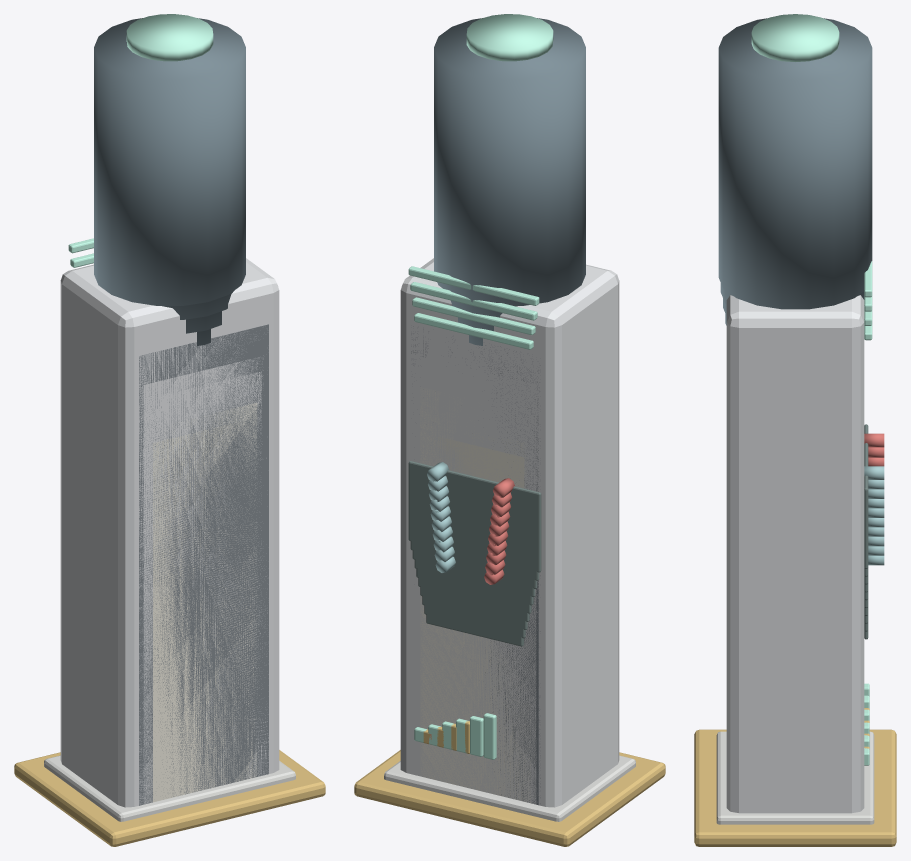
File: Gear13.fbx
3 renders of one model, left to right at view 1: azimuth 30°, elevation 25°; view 2: azimuth 150°, elevation 25°; view 3: azimuth 270°, elevation 25°, orthographic.
Parts seen in each view (by area): view 1: Gear13_V10_Platinum, Gear13_V8_Graphite, Gear13_V10_Glass, Gear13_V2_Ivory, Gear13_V6_Platinum, Gear13_V5_Platinum, Gear13_V9_Platinum, Gear13_V10_Gold, Gear13_V9_Gold, Gear13_V10_Glow, Gear13_V10_Chrome, Gear13_V1_Ivory (+4 smaller); view 2: Gear13_V10_Platinum, Gear13_V10_Glass, Gear13_V6_Platinum, Gear13_V4_Linen, Gear13_V10_Gold, Gear13_V10_Glow, Gear13_V3_Linen, Gear13_V7_Graphite, Gear13_V1_Ink, Gear13_V5_Platinum, Gear13_V9_Gold, Gear13_V5_Ink (+13 smaller); view 3: Gear13_V10_Platinum, Gear13_V10_Glass, Gear13_V10_Gold, Gear13_V10_Glow, Gear13_V9_Gold, Gear13_V10_Chrome, Gear13_V4_Chrome, Gear13_V5_Chrome, Gear13_V10_Ink, Gear13_V9_Chrome, Gear13_V6_Chrome.
Boxes of the visible parts, bbox=[...] form: Gear13_V10_Platinum: bbox=[60, 258, 279, 807]; Gear13_V8_Graphite: bbox=[139, 324, 268, 805]; Gear13_V10_Glass: bbox=[94, 18, 245, 305]; Gear13_V2_Ivory: bbox=[153, 419, 254, 802]; Gear13_V6_Platinum: bbox=[143, 357, 263, 803]; Gear13_V5_Platinum: bbox=[146, 371, 261, 803]; Gear13_V9_Platinum: bbox=[136, 309, 271, 773]; Gear13_V10_Gold: bbox=[14, 750, 325, 846]; Gear13_V9_Gold: bbox=[20, 752, 320, 837]; Gear13_V10_Glow: bbox=[68, 14, 213, 253]; Gear13_V10_Chrome: bbox=[44, 758, 295, 821]; Gear13_V1_Ivory: bbox=[155, 674, 251, 801]; Gear13_V10_Platinum: bbox=[400, 258, 619, 807]; Gear13_V10_Glass: bbox=[434, 18, 585, 305]; Gear13_V6_Platinum: bbox=[415, 357, 536, 804]; Gear13_V4_Linen: bbox=[420, 387, 531, 803]; Gear13_V10_Gold: bbox=[354, 750, 665, 846]; Gear13_V10_Glow: bbox=[408, 14, 553, 757]; Gear13_V3_Linen: bbox=[422, 404, 518, 797]; Gear13_V7_Graphite: bbox=[479, 362, 538, 805]; Gear13_V1_Ink: bbox=[426, 546, 523, 646]; Gear13_V5_Platinum: bbox=[418, 581, 533, 803]; Gear13_V9_Gold: bbox=[358, 752, 659, 841]; Gear13_V5_Ink: bbox=[418, 521, 531, 613]; Gear13_V10_Platinum: bbox=[726, 295, 864, 813]; Gear13_V10_Glass: bbox=[718, 18, 872, 309]; Gear13_V10_Gold: bbox=[694, 729, 896, 846]; Gear13_V10_Glow: bbox=[751, 14, 872, 765]; Gear13_V9_Gold: bbox=[694, 731, 896, 833]; Gear13_V10_Chrome: bbox=[716, 731, 874, 824]; Gear13_V4_Chrome: bbox=[716, 738, 874, 811]; Gear13_V5_Chrome: bbox=[716, 737, 874, 812]; Gear13_V10_Ink: bbox=[864, 424, 868, 568]; Gear13_V9_Chrome: bbox=[716, 732, 874, 817]; Gear13_V6_Chrome: bbox=[716, 736, 874, 813].
Bounding box in the file's own units: 62.24 × 208 × 50.
